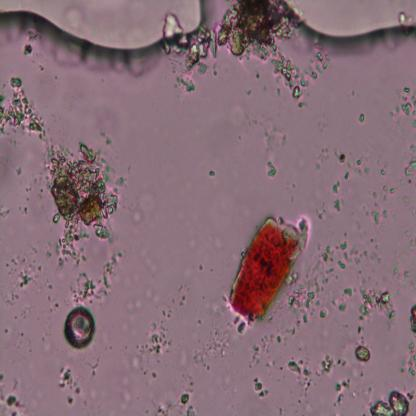Air bubble: (0, 0, 206, 52), (283, 1, 416, 57)
Background material: (218, 0, 332, 102), (38, 137, 126, 264), (160, 12, 216, 92), (294, 248, 354, 322), (0, 74, 52, 140), (71, 256, 122, 308), (242, 101, 288, 154), (287, 354, 347, 389), (139, 315, 174, 367), (358, 286, 396, 331), (362, 158, 396, 206), (117, 351, 141, 416), (155, 383, 198, 416), (124, 273, 161, 311), (340, 222, 376, 260), (132, 170, 156, 226), (195, 331, 230, 365), (381, 258, 416, 291), (0, 371, 26, 415), (57, 361, 83, 404), (7, 254, 36, 290), (370, 390, 410, 415), (252, 333, 282, 366), (39, 268, 61, 310), (18, 175, 40, 216), (404, 301, 416, 376), (95, 109, 118, 144), (165, 275, 185, 314), (0, 143, 22, 177), (137, 239, 159, 272), (397, 88, 416, 126), (225, 102, 247, 134), (333, 376, 353, 410), (343, 160, 371, 180), (38, 327, 58, 355), (22, 31, 38, 56), (401, 156, 416, 182), (353, 344, 371, 363), (403, 192, 416, 218), (253, 376, 268, 398), (331, 184, 343, 211), (316, 142, 327, 170), (399, 6, 414, 25), (232, 318, 248, 335), (371, 207, 389, 222), (264, 159, 277, 179), (2, 291, 17, 308), (0, 196, 12, 217), (86, 380, 96, 404), (277, 325, 295, 338), (403, 232, 415, 251), (87, 357, 102, 370), (332, 148, 345, 162), (358, 110, 367, 126), (4, 324, 12, 336), (208, 169, 218, 177)
Diatom: (62, 305, 94, 348)
Fragment: (228, 214, 310, 323)
